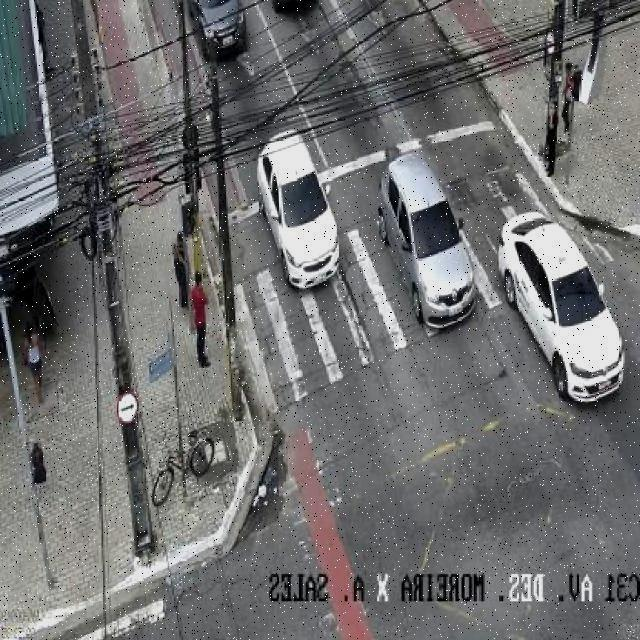Car: (495, 209, 627, 430), (368, 155, 470, 347), (240, 132, 340, 300), (178, 0, 262, 59)
